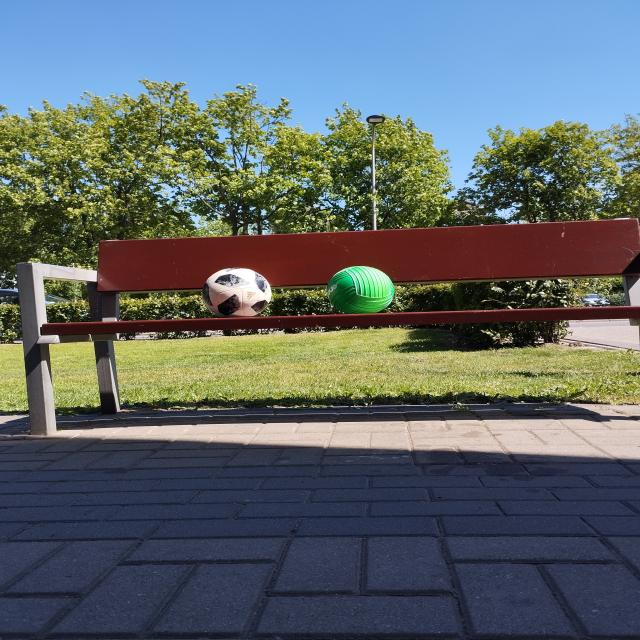nozna: (202, 267, 271, 318)
zielona: (325, 266, 395, 314)
